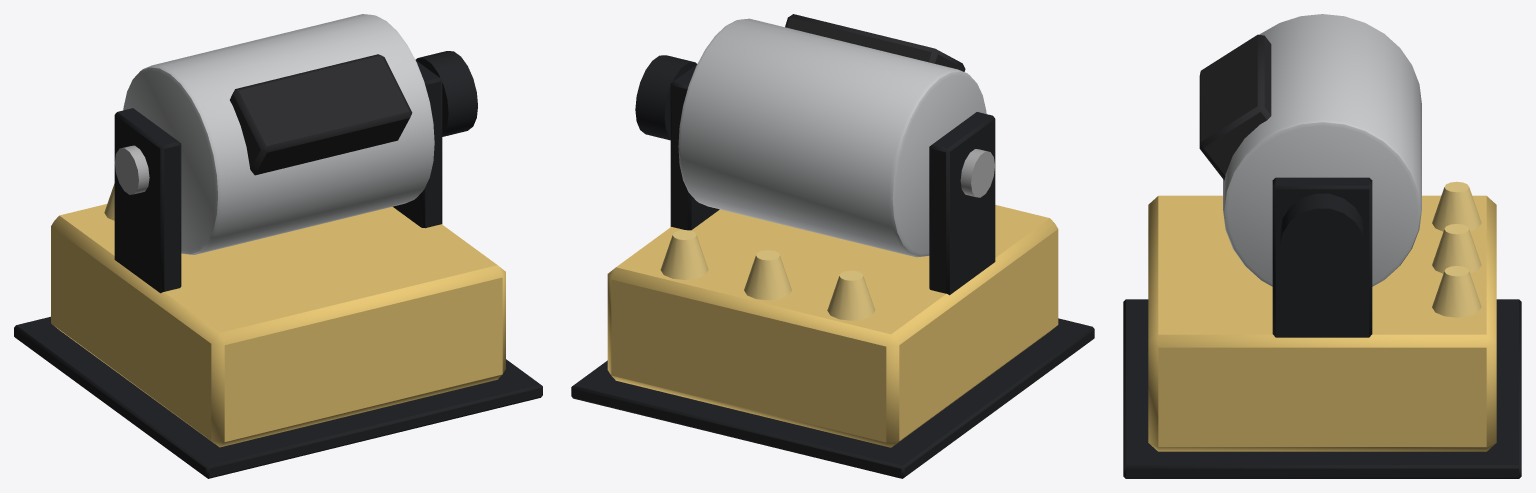
File: mod_inst_radiometer.glb
3 renders of one model, left to right at view 1: azimuth 30°, elevation 25°; view 2: azimuth 150°, elevation 25°; view 3: azimuth 270°, elevation 25°, orthographic. The views are drawn at different scales.
Visible parts, largest first — view 1: mod_inst_radiometer; view 2: mod_inst_radiometer; view 3: mod_inst_radiometer.
Part boxes in pixels (x1,y1,x2,y2): mod_inst_radiometer: (14, 14, 542, 478); mod_inst_radiometer: (571, 14, 1094, 478); mod_inst_radiometer: (1123, 14, 1521, 478).
Bounding box in the file's own units: 0.825 × 0.73 × 0.8.
